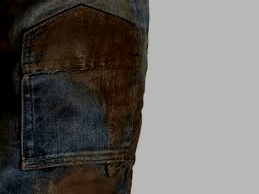earth: (39, 21, 132, 73), (105, 72, 127, 129), (60, 174, 114, 193), (88, 73, 104, 92)
